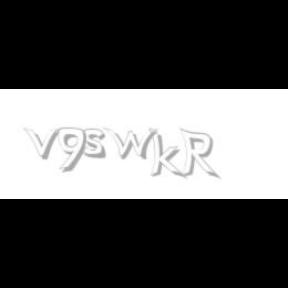9: (58, 128, 86, 172)
R: (179, 128, 217, 180)
k: (148, 128, 186, 180)
s: (82, 128, 110, 160)
v: (23, 128, 63, 160)
w: (104, 128, 162, 160)
